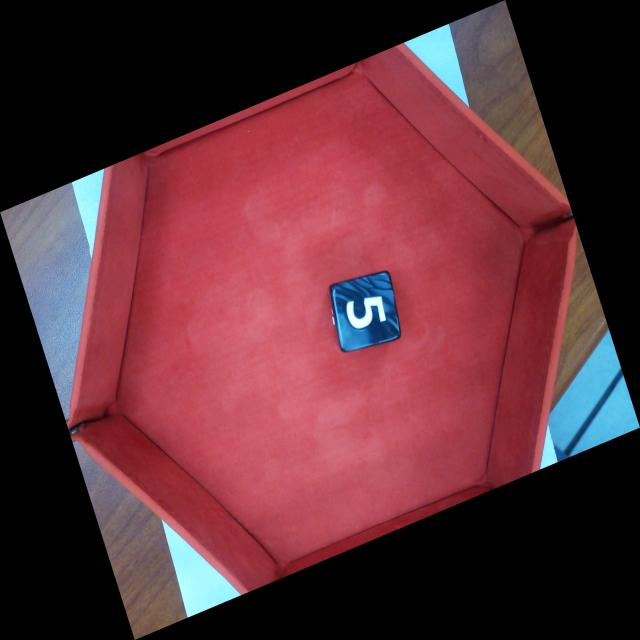dice: (327, 269, 403, 356)
